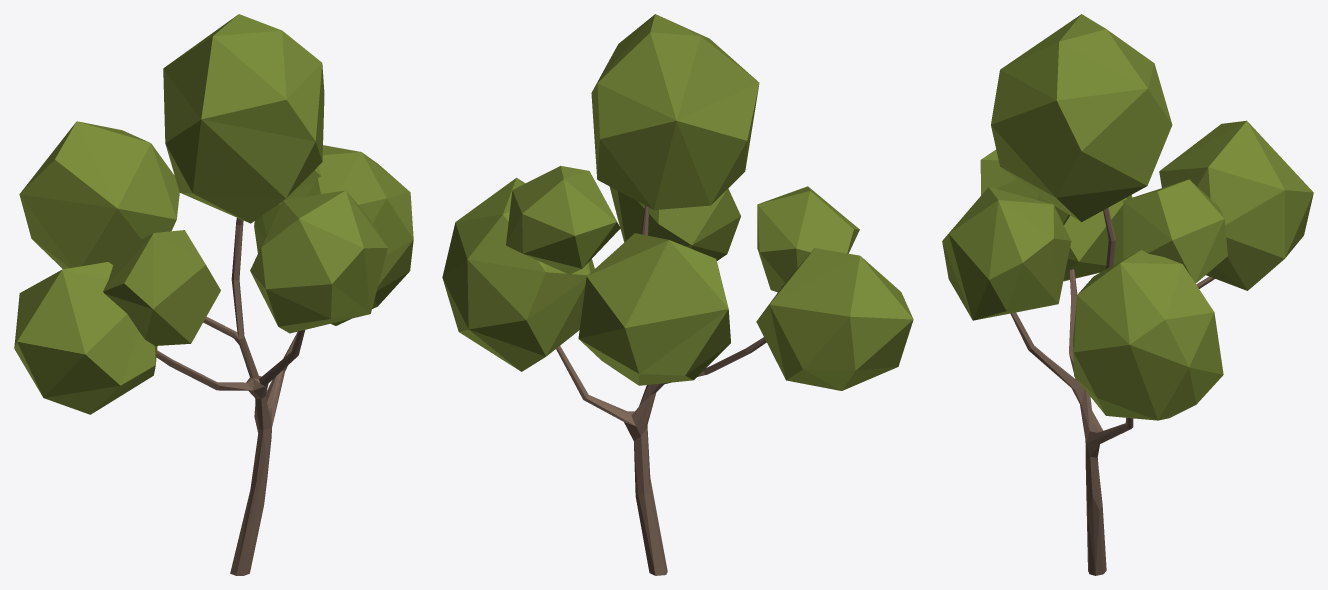
Rendered from arbol2.fbx.
3 renders of one model, left to right at view 1: azimuth 30°, elevation 25°; view 2: azimuth 150°, elevation 25°; view 3: azimuth 270°, elevation 25°, orthographic. The views are drawn at different scales.
Visible parts, largest first — view 1: arbol_2:Mesh; view 2: arbol_2:Mesh; view 3: arbol_2:Mesh.
Boxes of the visible parts, box(x1,y1,x2,y2) form: arbol_2:Mesh: box(14, 14, 413, 575); arbol_2:Mesh: box(442, 14, 913, 575); arbol_2:Mesh: box(942, 14, 1313, 575).
Size of the model in its own units: 7.9 by 9.75 by 6.04.
Materials: 1 (1 with a texture image).
